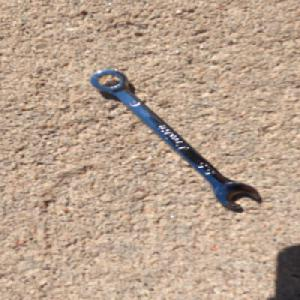Wrench: (88, 67, 263, 210)
